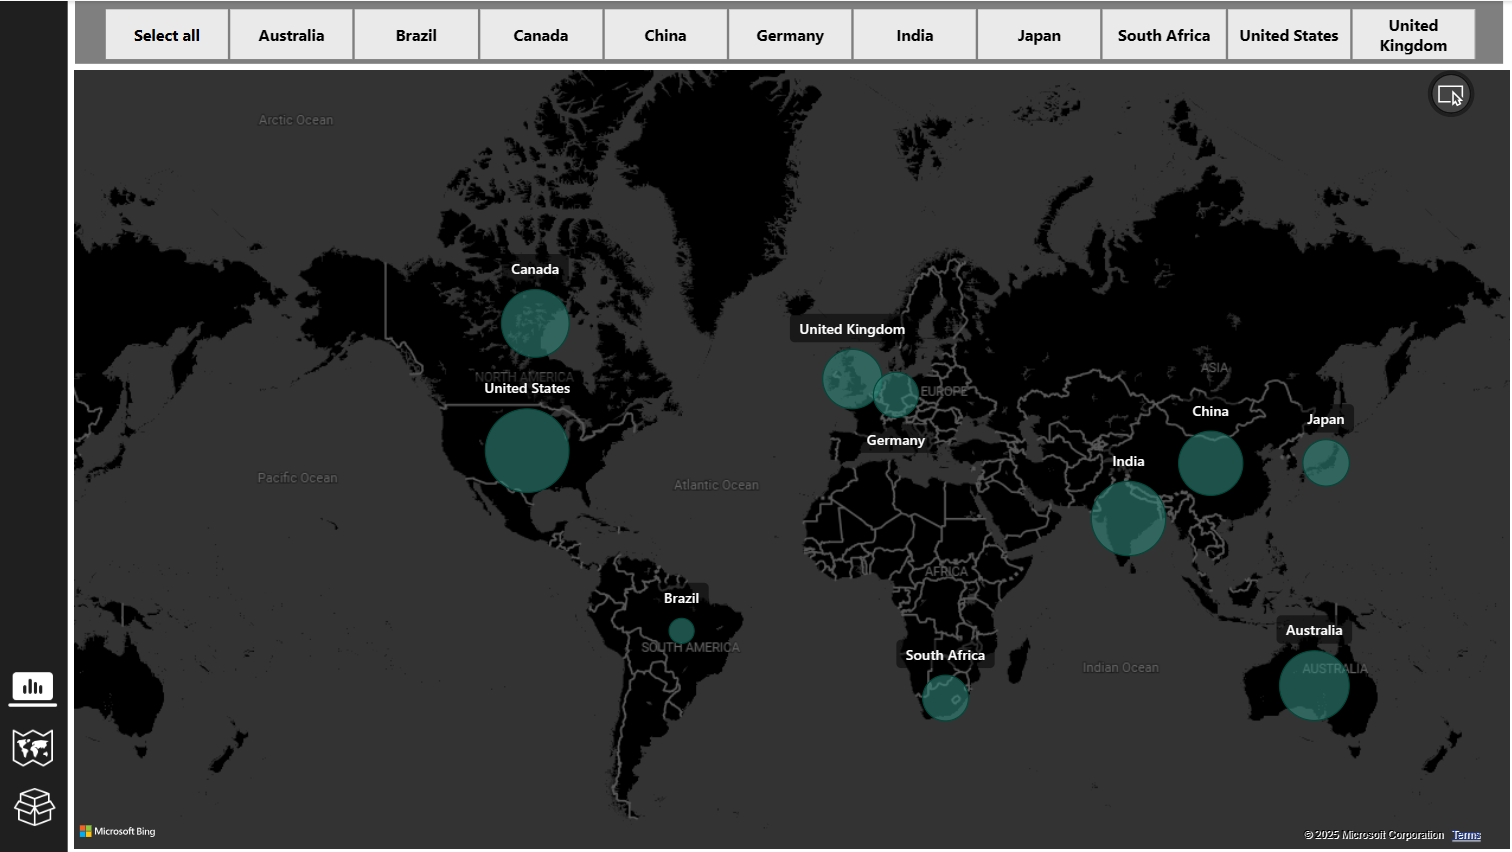

The page's visual inventory and layout, read from the dashboard file:
{"tool":"powerbi","page":{"name":"Map Charts","canvas":[1280,720],"ordinal":1},"visuals":[{"type":"shape","title":"Filter shape","box":[0,0,58,720.1],"z":0},{"type":"map","fields":{"Category":["Country.country"],"Size":["measures table.target revenue"]},"box":[58.3,53,1221.7,666.9],"z":1000},{"type":"slicer","fields":{"Values":["Country.country"]},"box":[64.5,0,1204.9,53],"z":2000},{"type":"group","id":"g1","title":"Page Nav Icons","box":[0,553.1,57.9,152.1],"z":3000},{"type":"image","title":"Map Chart","box":[5.4,605.6,47.1,49.8],"z":33000,"group":"g1"},{"type":"image","title":"Dashboard ceo","box":[0,553.1,57.9,52.5],"z":34000,"group":"g1"},{"type":"image","title":"Product Chart","box":[7.2,655.4,45.3,49.8],"z":35000,"group":"g1"}]}

Visuals, with their boxes in screenshot pixels (x1, y1, x2, y2):
"Filter shape" shape: region(0, 0, 67, 839)
map - Country.country x measures table.target revenue: region(68, 62, 1491, 839)
slicer - Country.country: region(75, 0, 1479, 62)
"Page Nav Icons" group: region(0, 644, 67, 822)
"Map Chart" image: region(6, 706, 61, 764)
"Dashboard ceo" image: region(0, 644, 67, 706)
"Product Chart" image: region(8, 764, 61, 822)
